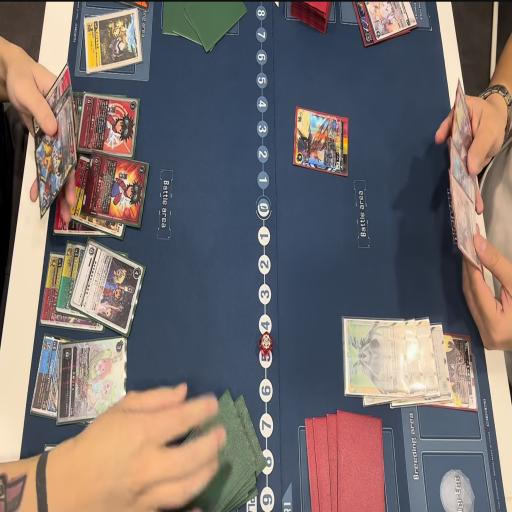card: (54, 332, 130, 434), (71, 242, 147, 343), (33, 98, 79, 224), (81, 152, 152, 230), (342, 319, 406, 399), (290, 105, 356, 182), (70, 152, 128, 239), (75, 94, 144, 161), (83, 3, 146, 75), (29, 336, 68, 426), (449, 174, 487, 266), (441, 328, 479, 418), (29, 61, 72, 140), (55, 242, 90, 320), (40, 251, 70, 333), (448, 140, 477, 211), (373, 0, 414, 50), (416, 315, 439, 404), (51, 180, 83, 242), (429, 320, 451, 407), (406, 318, 424, 403), (455, 84, 475, 152), (452, 111, 472, 172), (355, 0, 371, 50)
